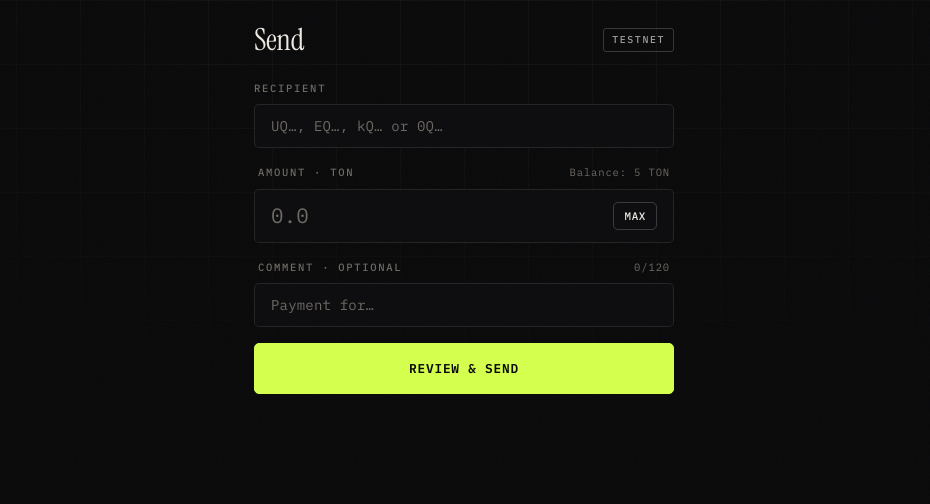
Send page — validation › requires a fee reserve rather than letting the whole balance go
Type "EQB8D0jMgaptSs8Jr79WLmFumjm3WxhTT8GyfP_gyRaaSQj5" into the field with placeholder "UQ…, EQ…, kQ… or 0Q…" at {"x": 464, "y": 126}, box [271,117,657,135]
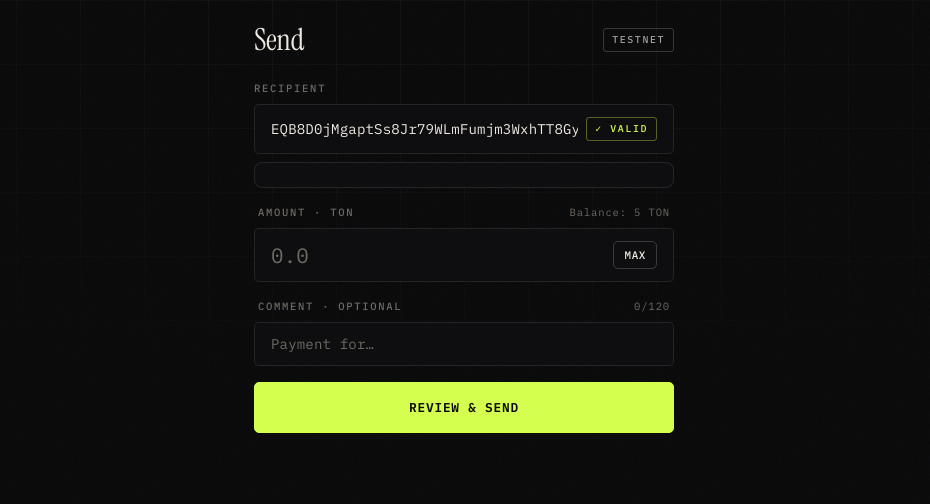
Type "5" into the field with placeholder "0.0" at {"x": 438, "y": 255}, box [271,242,606,268]
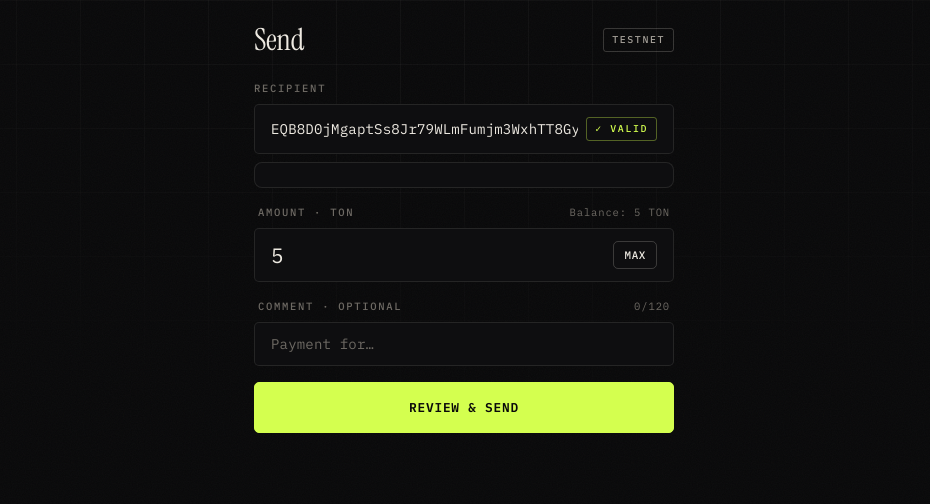
Click the button "Review & Send" at {"x": 464, "y": 408}, box [254,382,674,433]
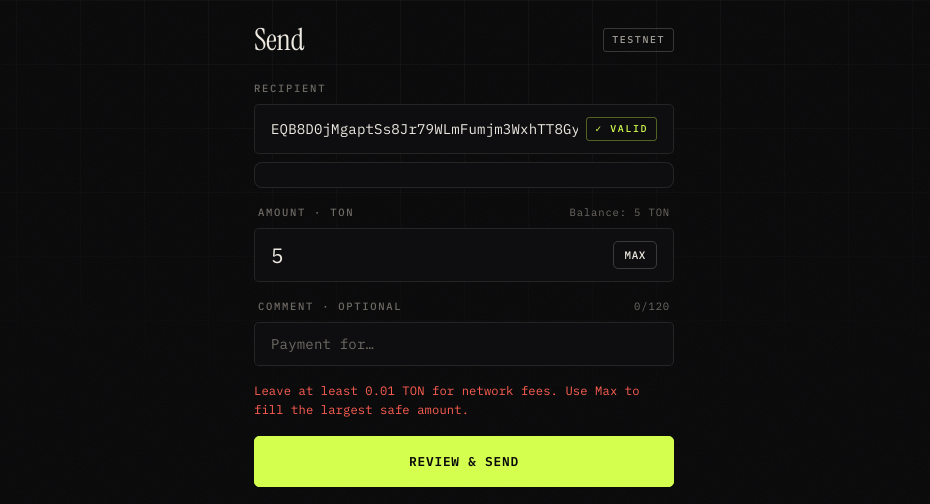
Now the text "network fees" is shown, box [254,383,640,417]
